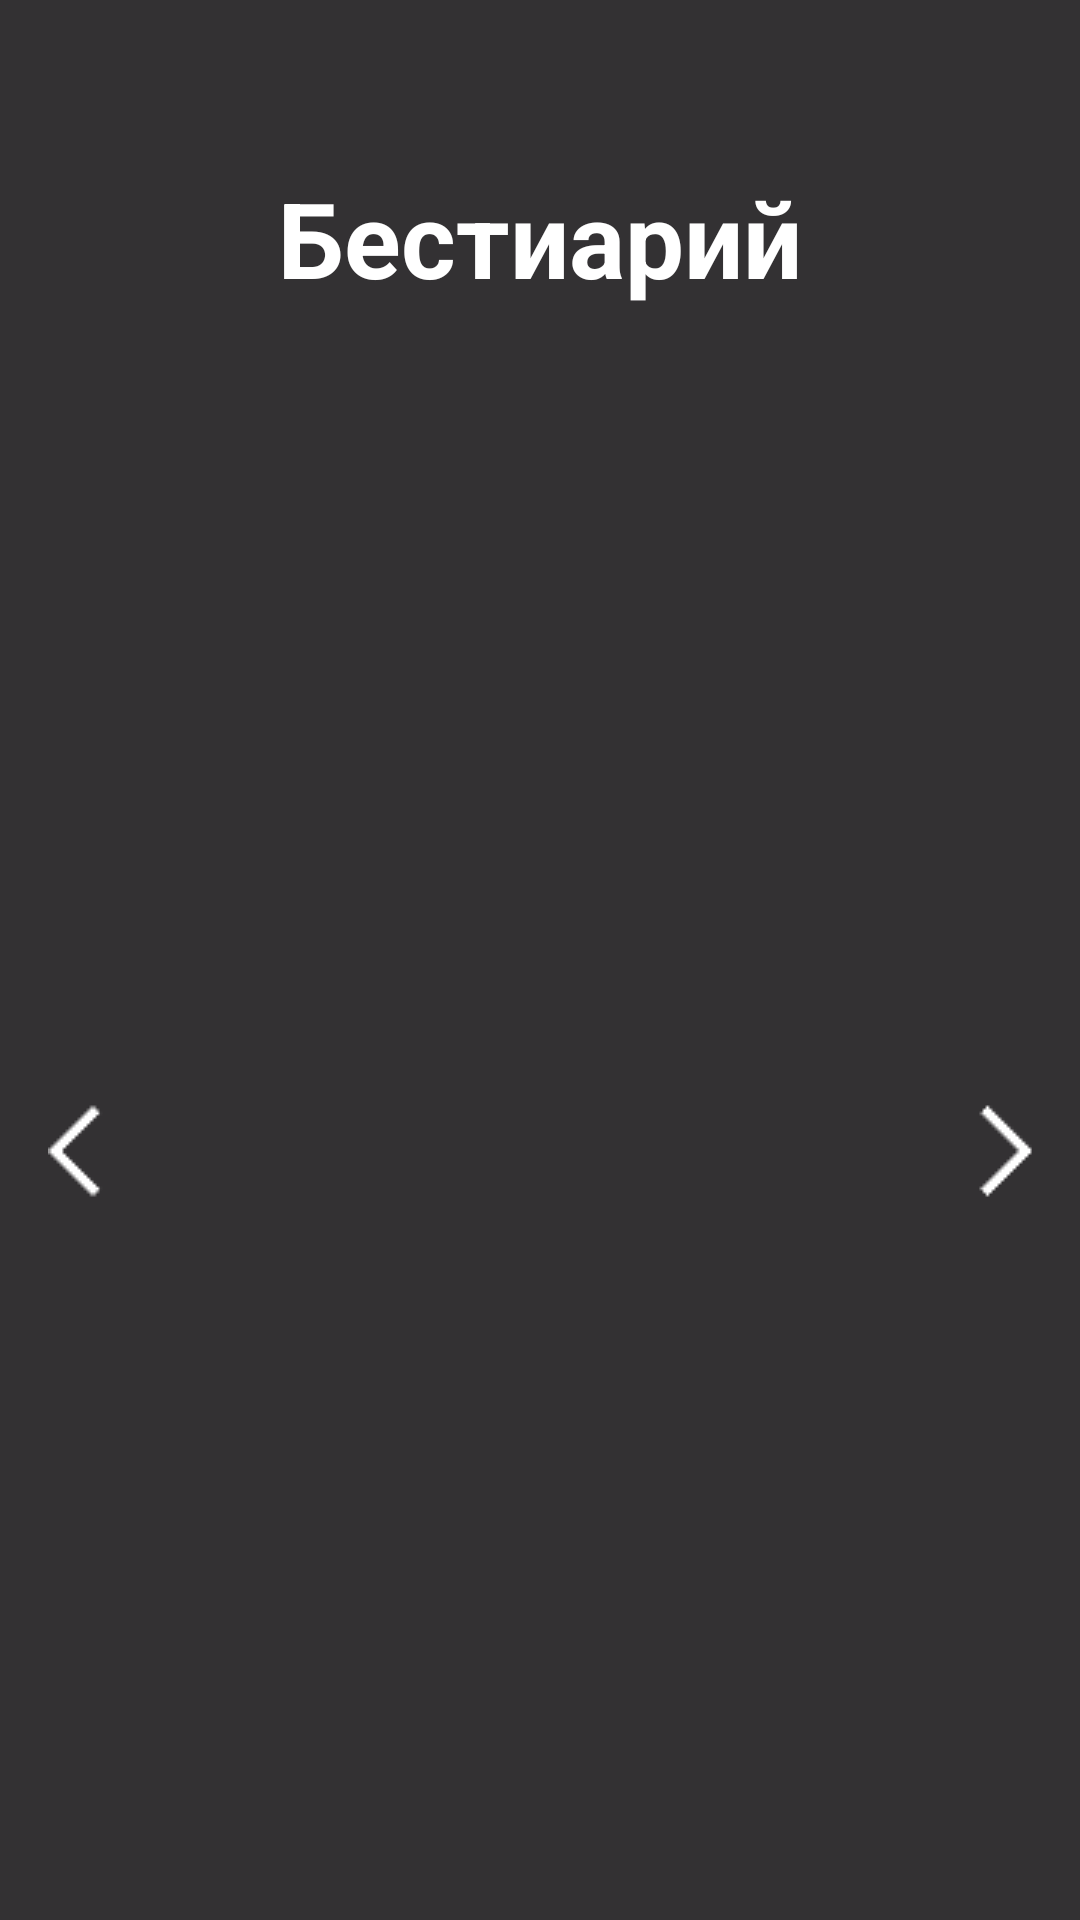

Point at icon controls on the screen. Image size 1080*1920, points as point (x, y).
Предыдущий: point (74, 1151)
